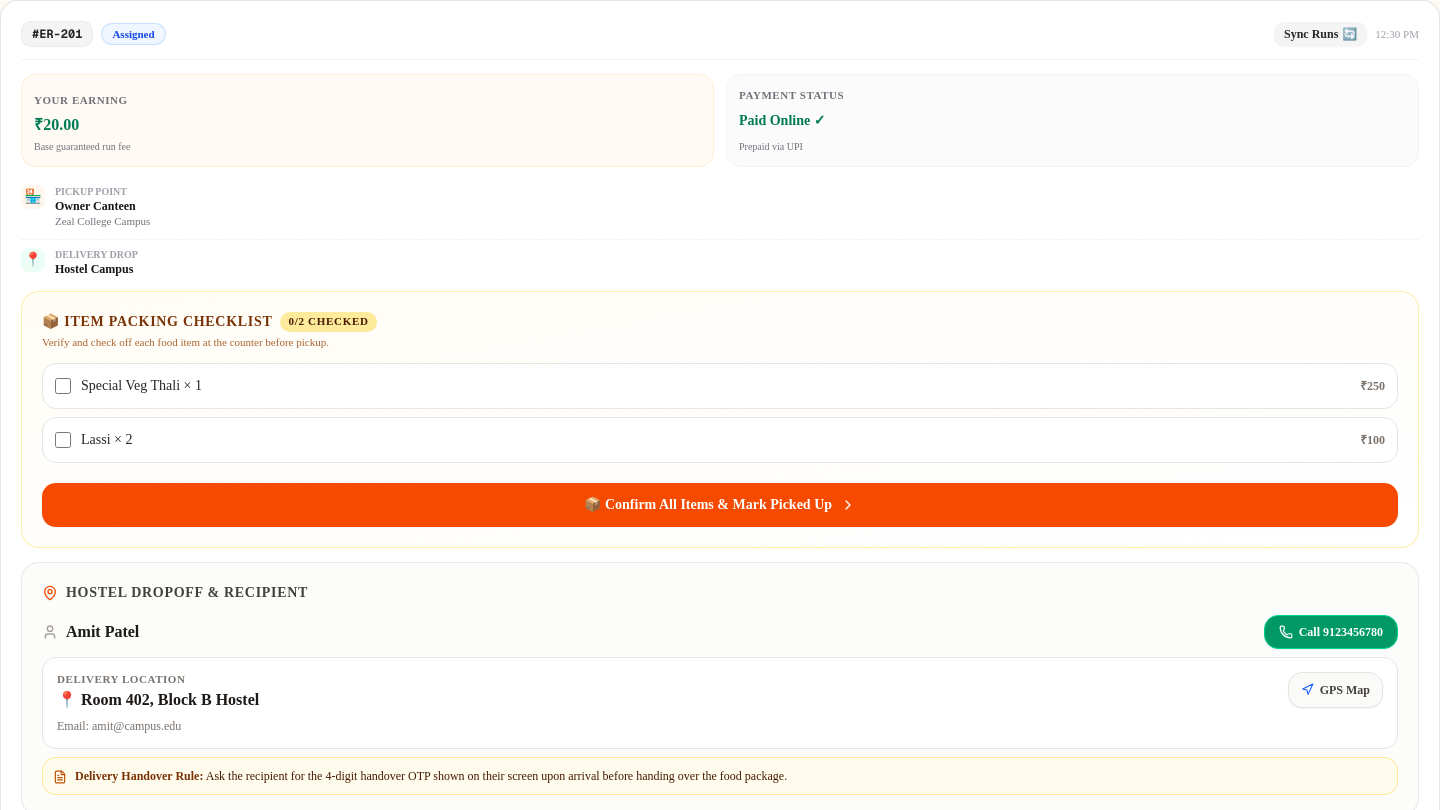
Campus Courier & Delivery Runner Portal Components › ActiveDeliveryManifest › allows checking off packing checklist items interactively
The width and height of the screenshot is (1440, 810).
expect the text "0/2 Checked" is shown: met, box [280,312,376,332]
Click the checkbox labelled "Special Veg Thali × 1 ₹250".
click(63, 386)  # box [55,378,71,394]
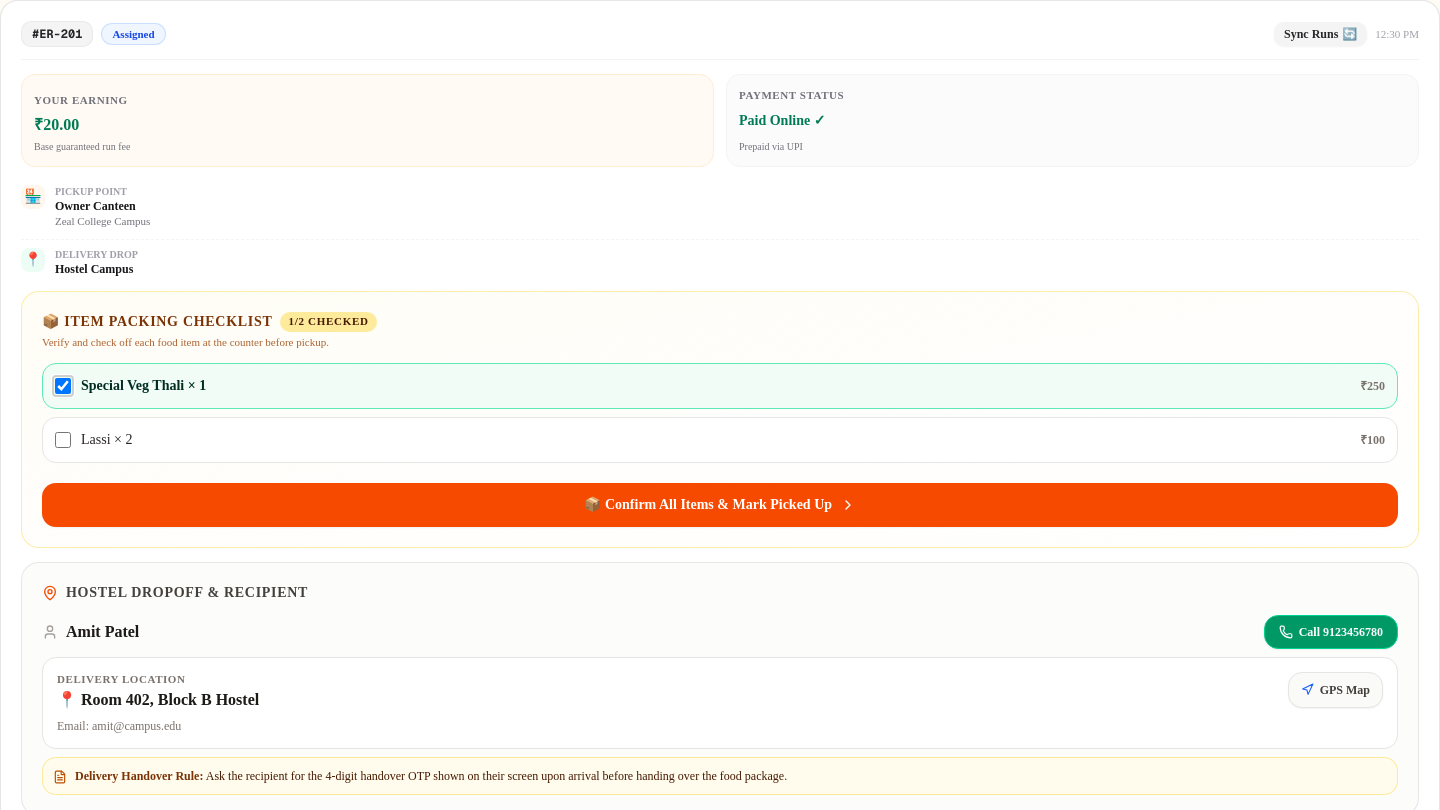
expect the text "1/2 Checked" is shown: met, box [280,312,376,332]
